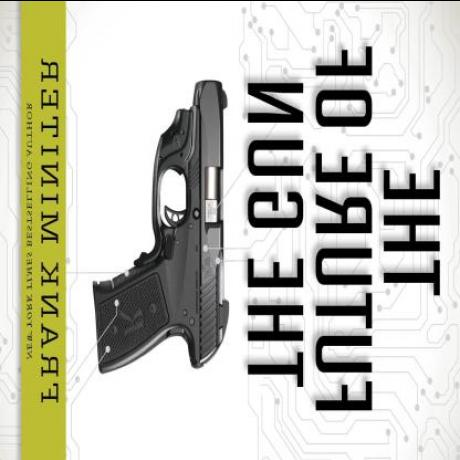weapon: (82, 69, 234, 381)
